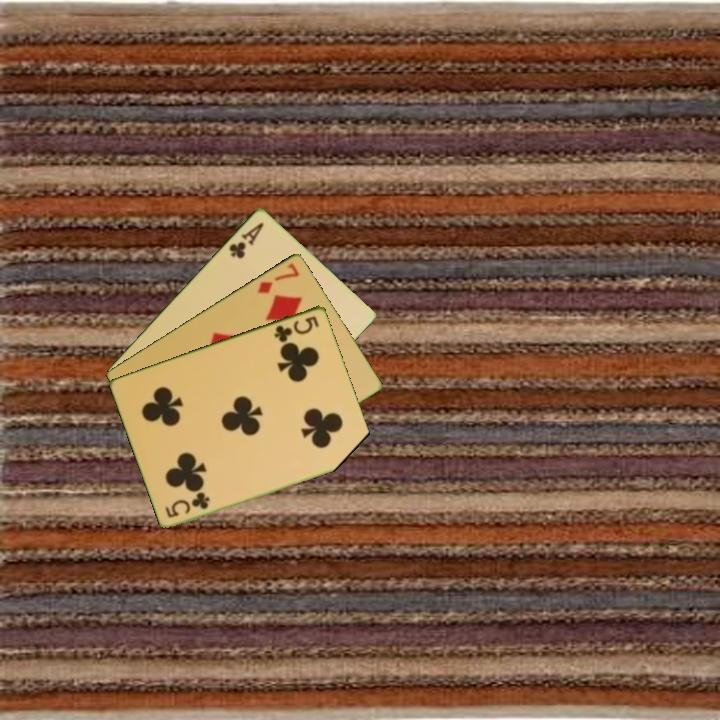5c: (271, 312, 322, 345), (162, 489, 213, 520)
7d: (253, 259, 302, 296)
Ac: (225, 218, 267, 261)
